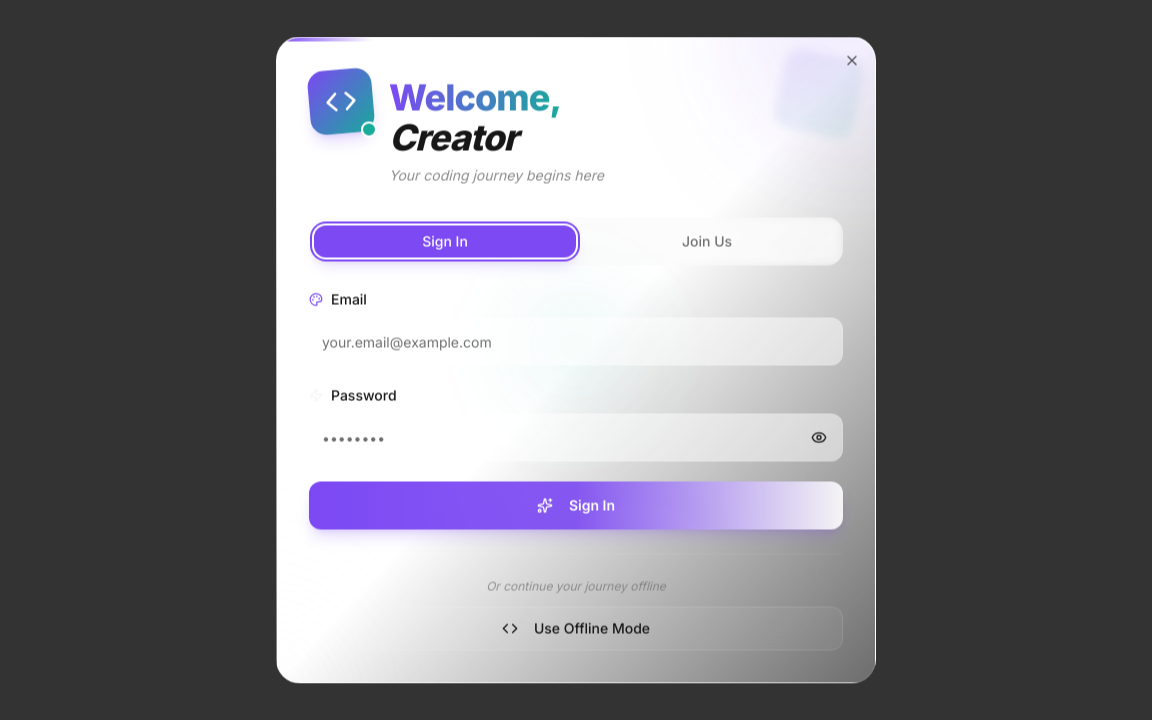
Test: AuthModal › should show error when passwords do not match
Click the tab "Join Us": {"x": 707, "y": 242} [576, 226, 838, 258]
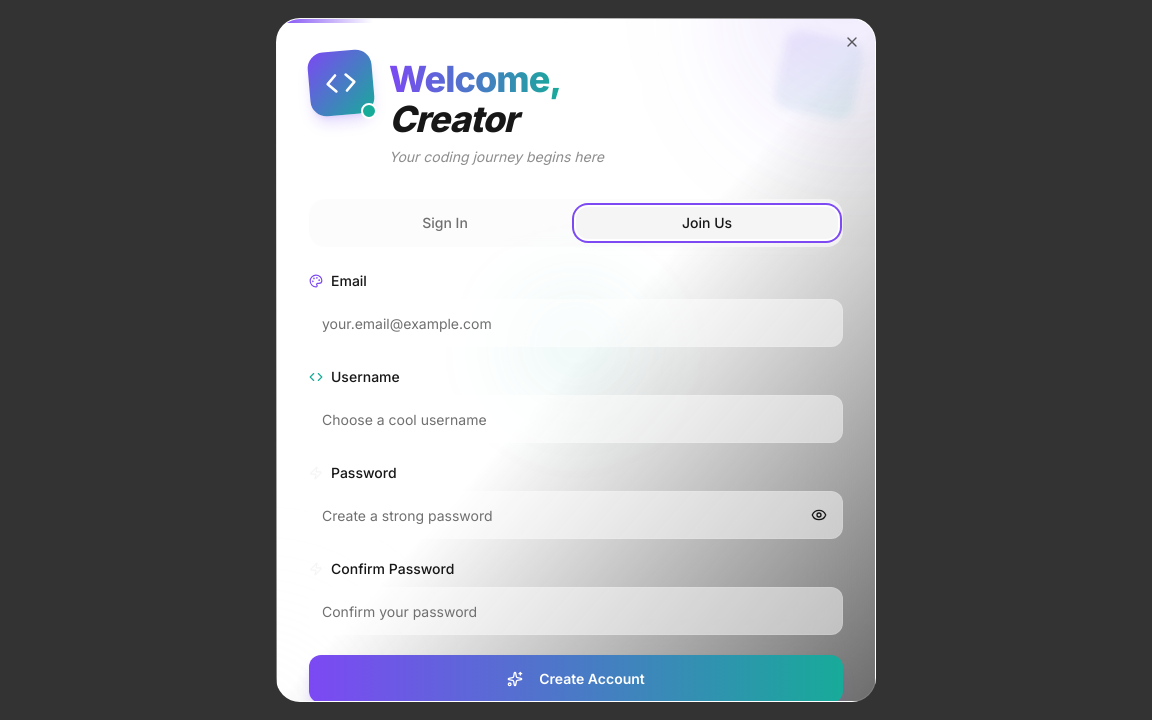
In the field labelled "Email": {"x": 576, "y": 323} [309, 299, 843, 347], type "test@example.com"
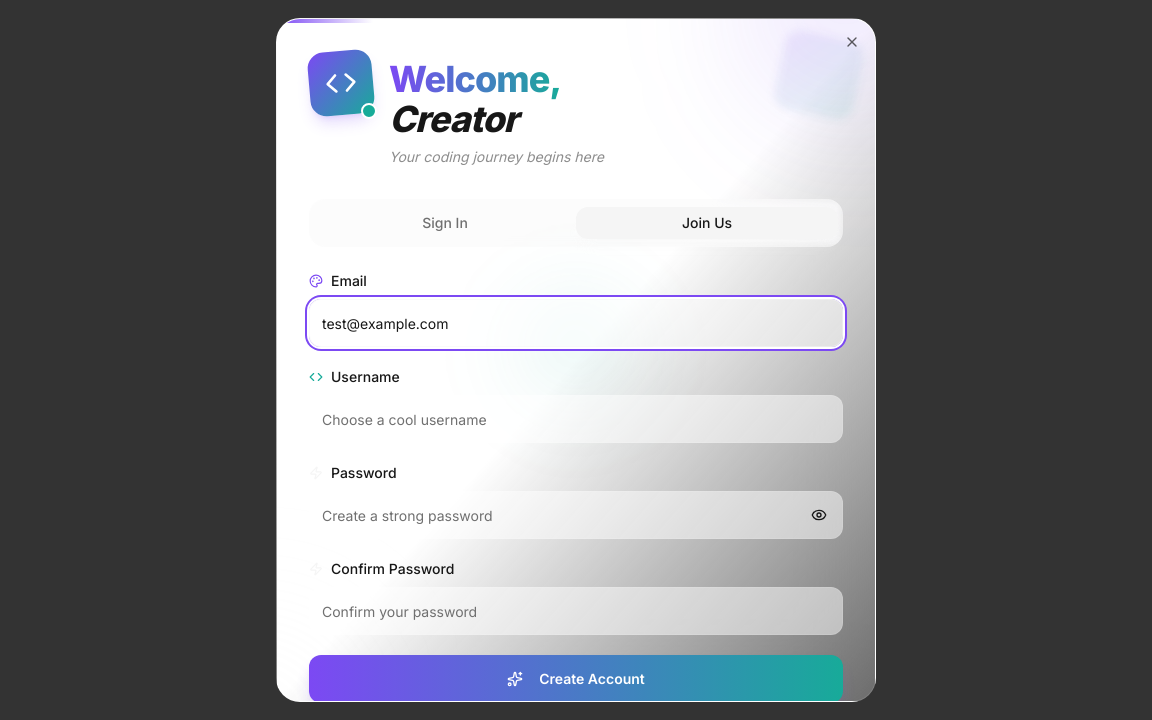
In the field labelled "Username": {"x": 576, "y": 419} [309, 395, 843, 443], type "testuser"
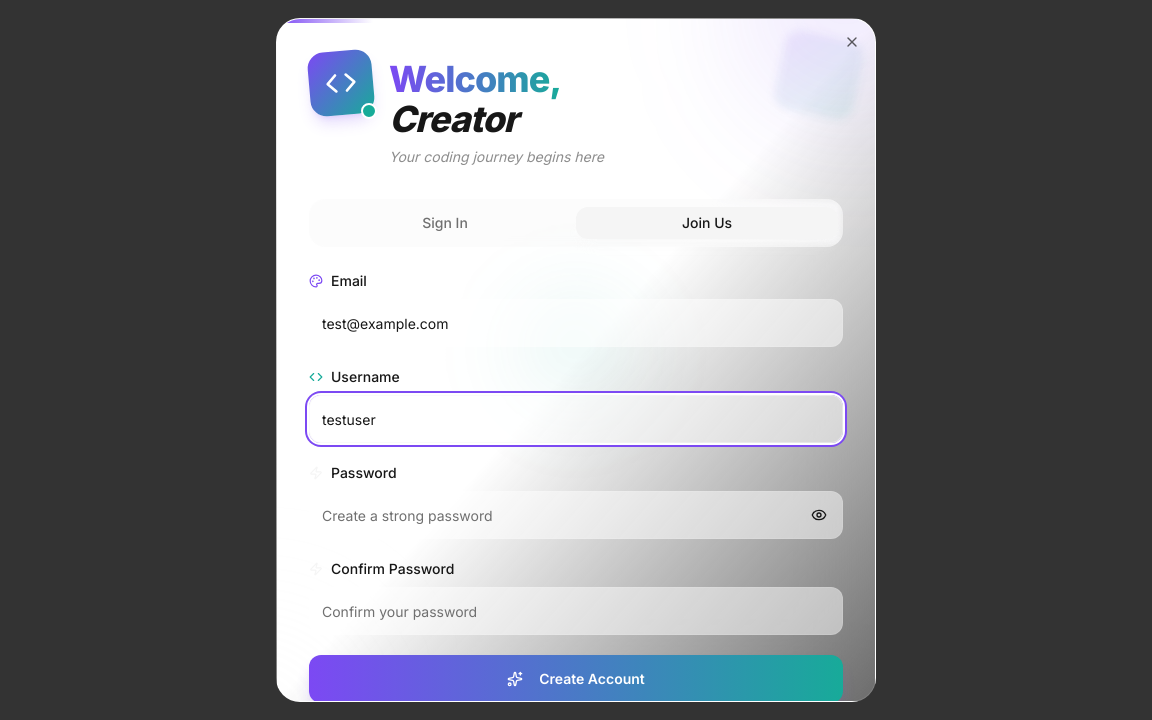
In the password field labelled "Password": {"x": 576, "y": 515} [309, 491, 843, 539], type "password123"
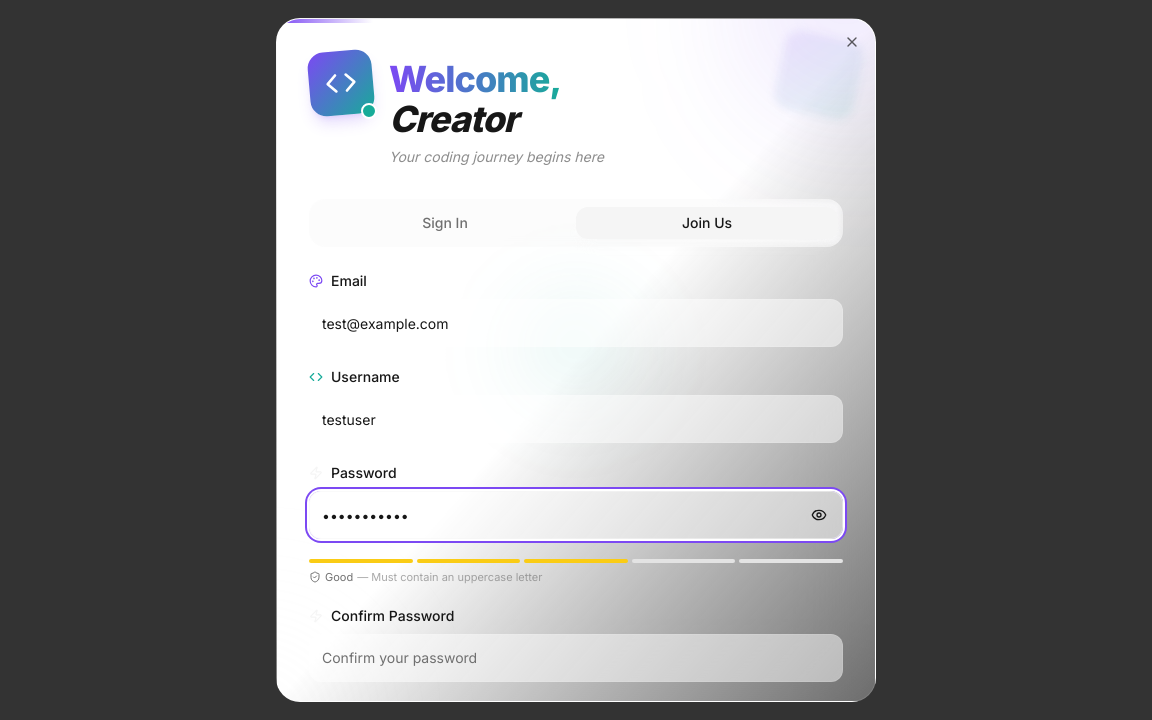
In the password field labelled "Confirm Password": {"x": 576, "y": 658} [309, 634, 843, 682], type "differentpassword"
(page scrolled)
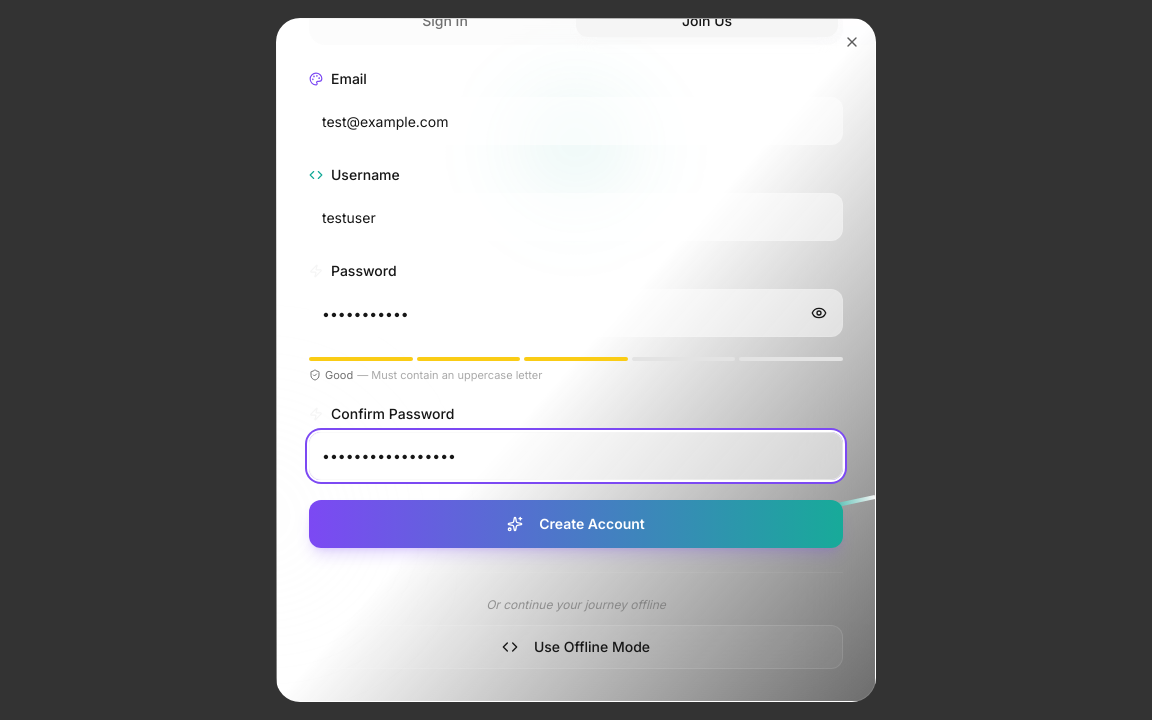
Click the button "Create Account": {"x": 576, "y": 524} [309, 500, 843, 548]
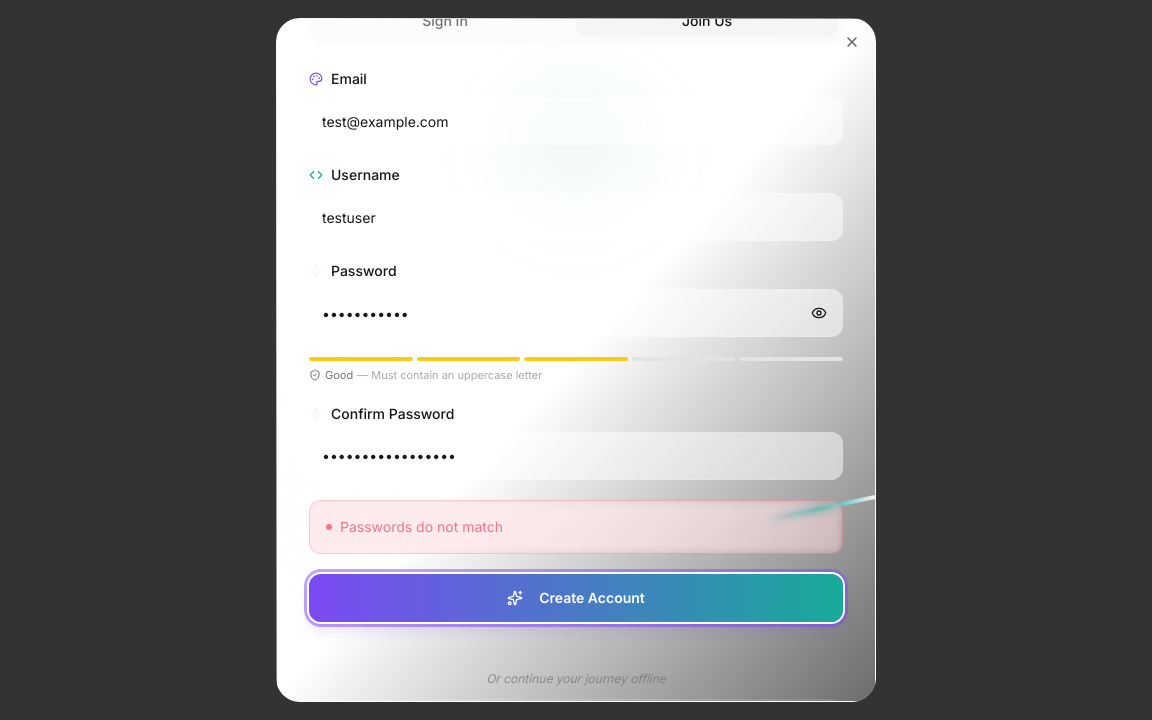
expect the text "Passwords do not match" is shown: met, box [326, 518, 503, 534]
